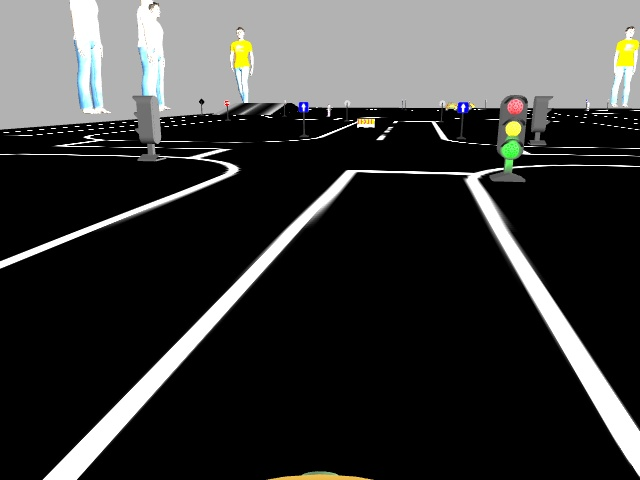ClosedRoadStand: (356, 118, 373, 127)
OneWay: (457, 101, 467, 112), (299, 101, 307, 112)
TrafficLight: (496, 94, 525, 158)
